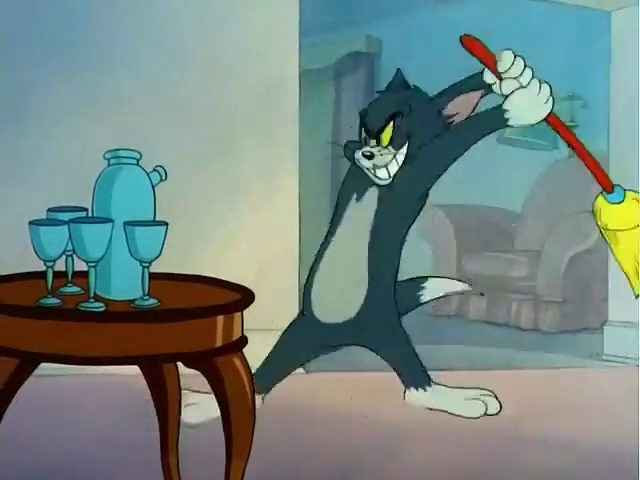tom: (244, 42, 535, 421)
